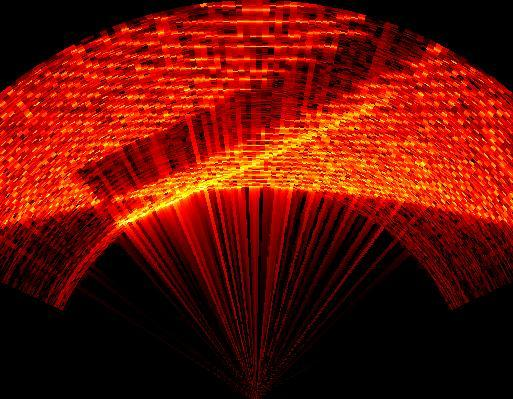pipe: (80, 20, 434, 205)
